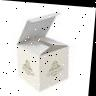cube: (15, 36, 73, 91)
